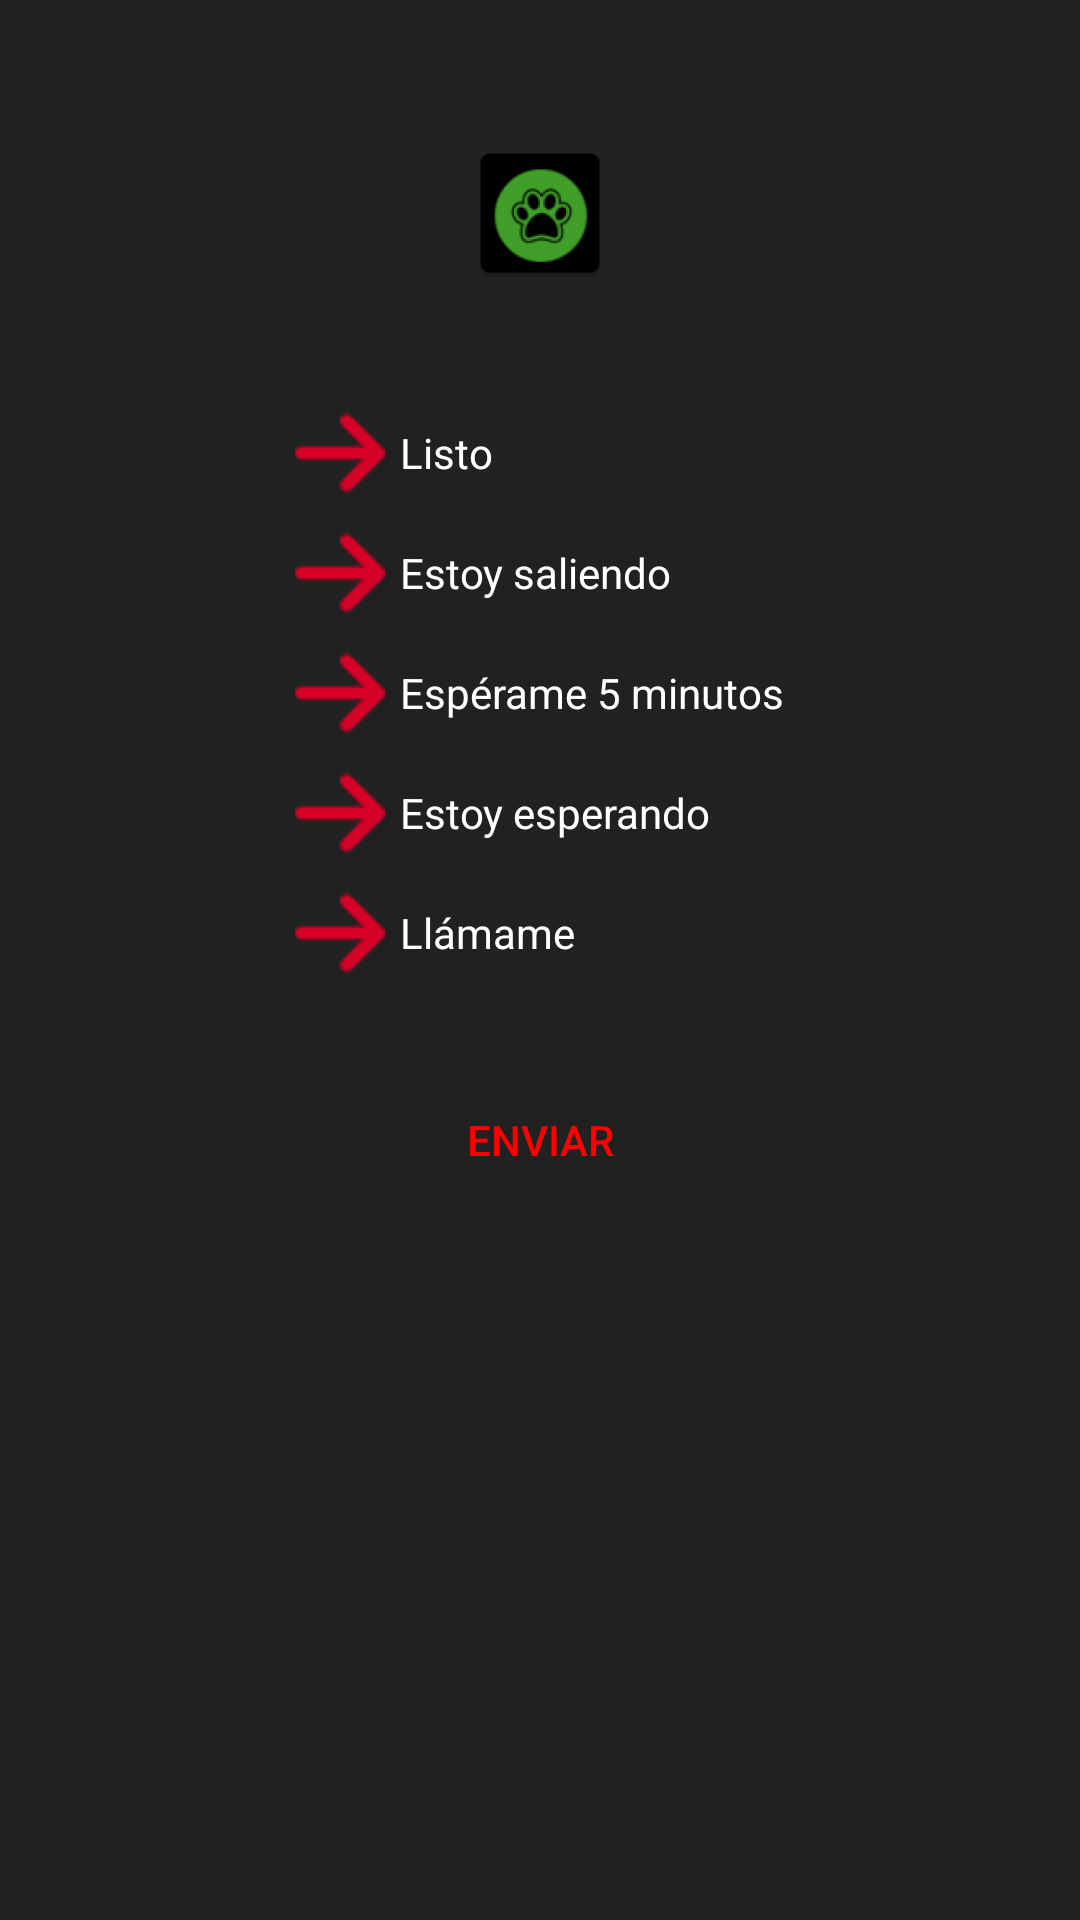

Where to tap for icons on this 1080px x 1920px app screen, as point (x, y):
fle roja: point (340, 453), point (340, 573), point (340, 693), point (340, 813), point (340, 933)
